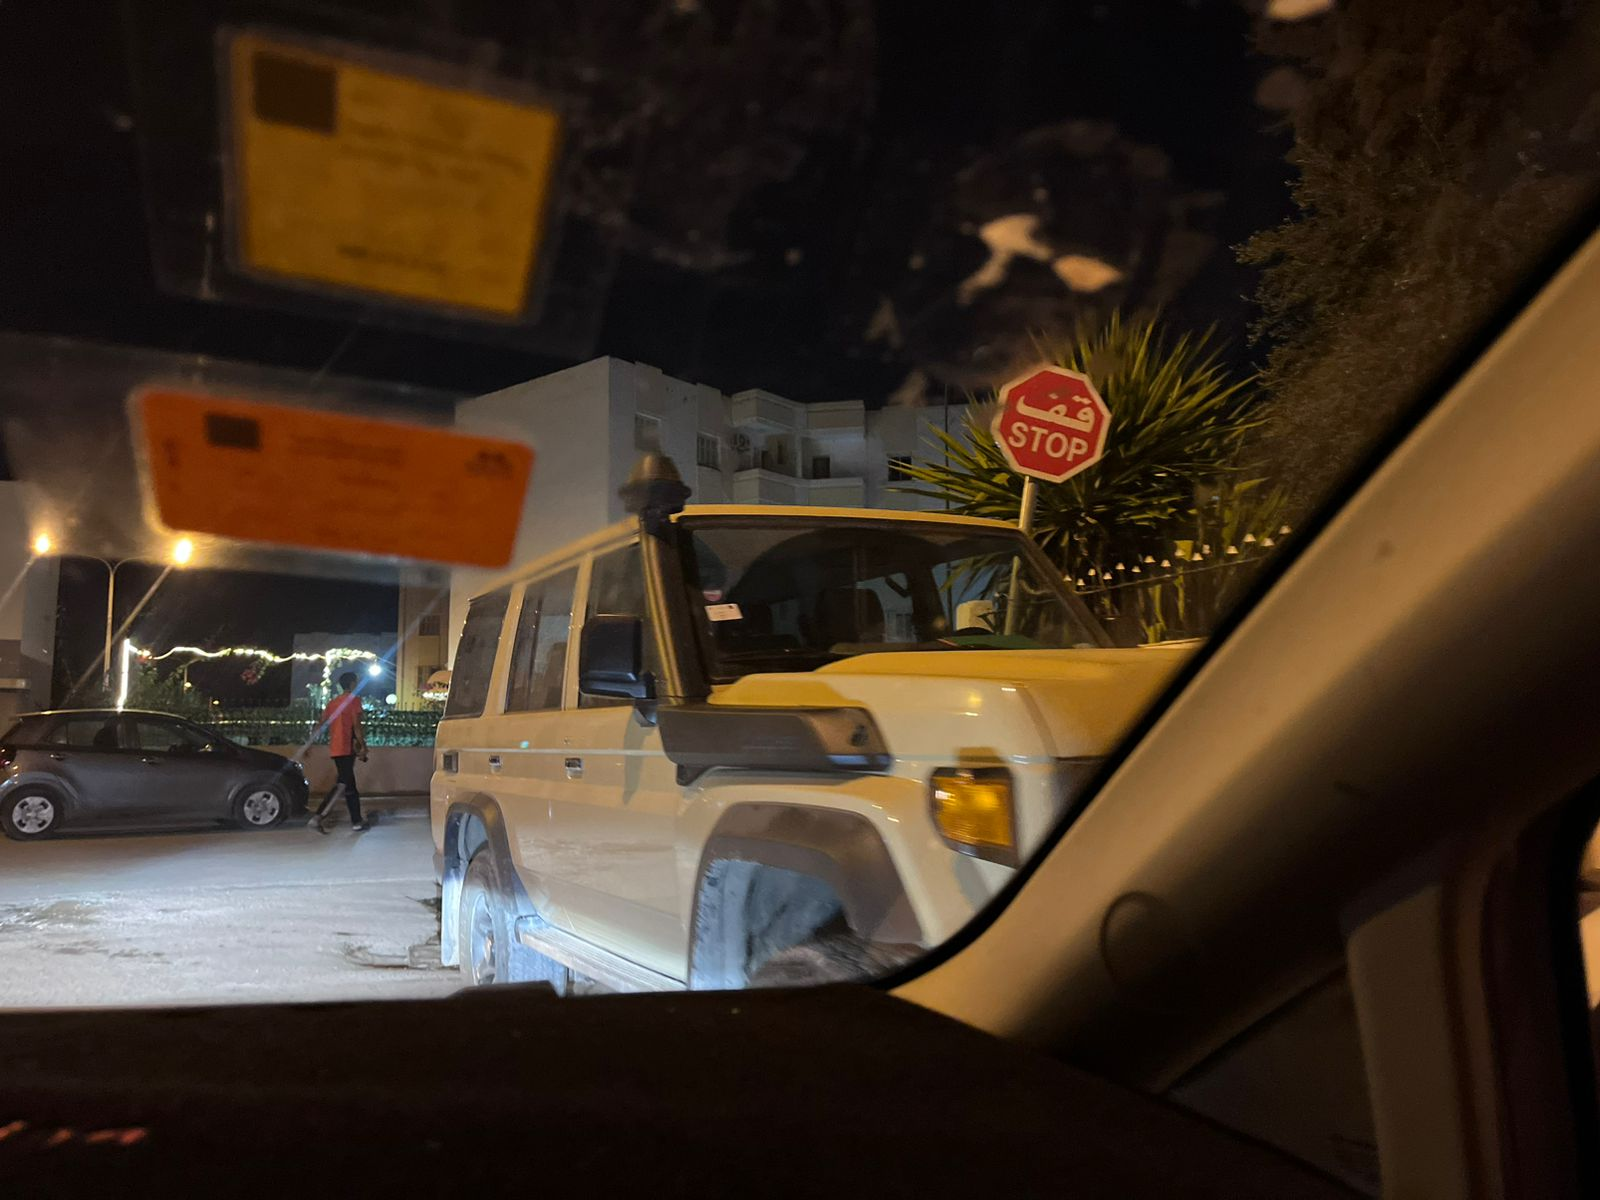Stop: (989, 362, 1111, 484)
